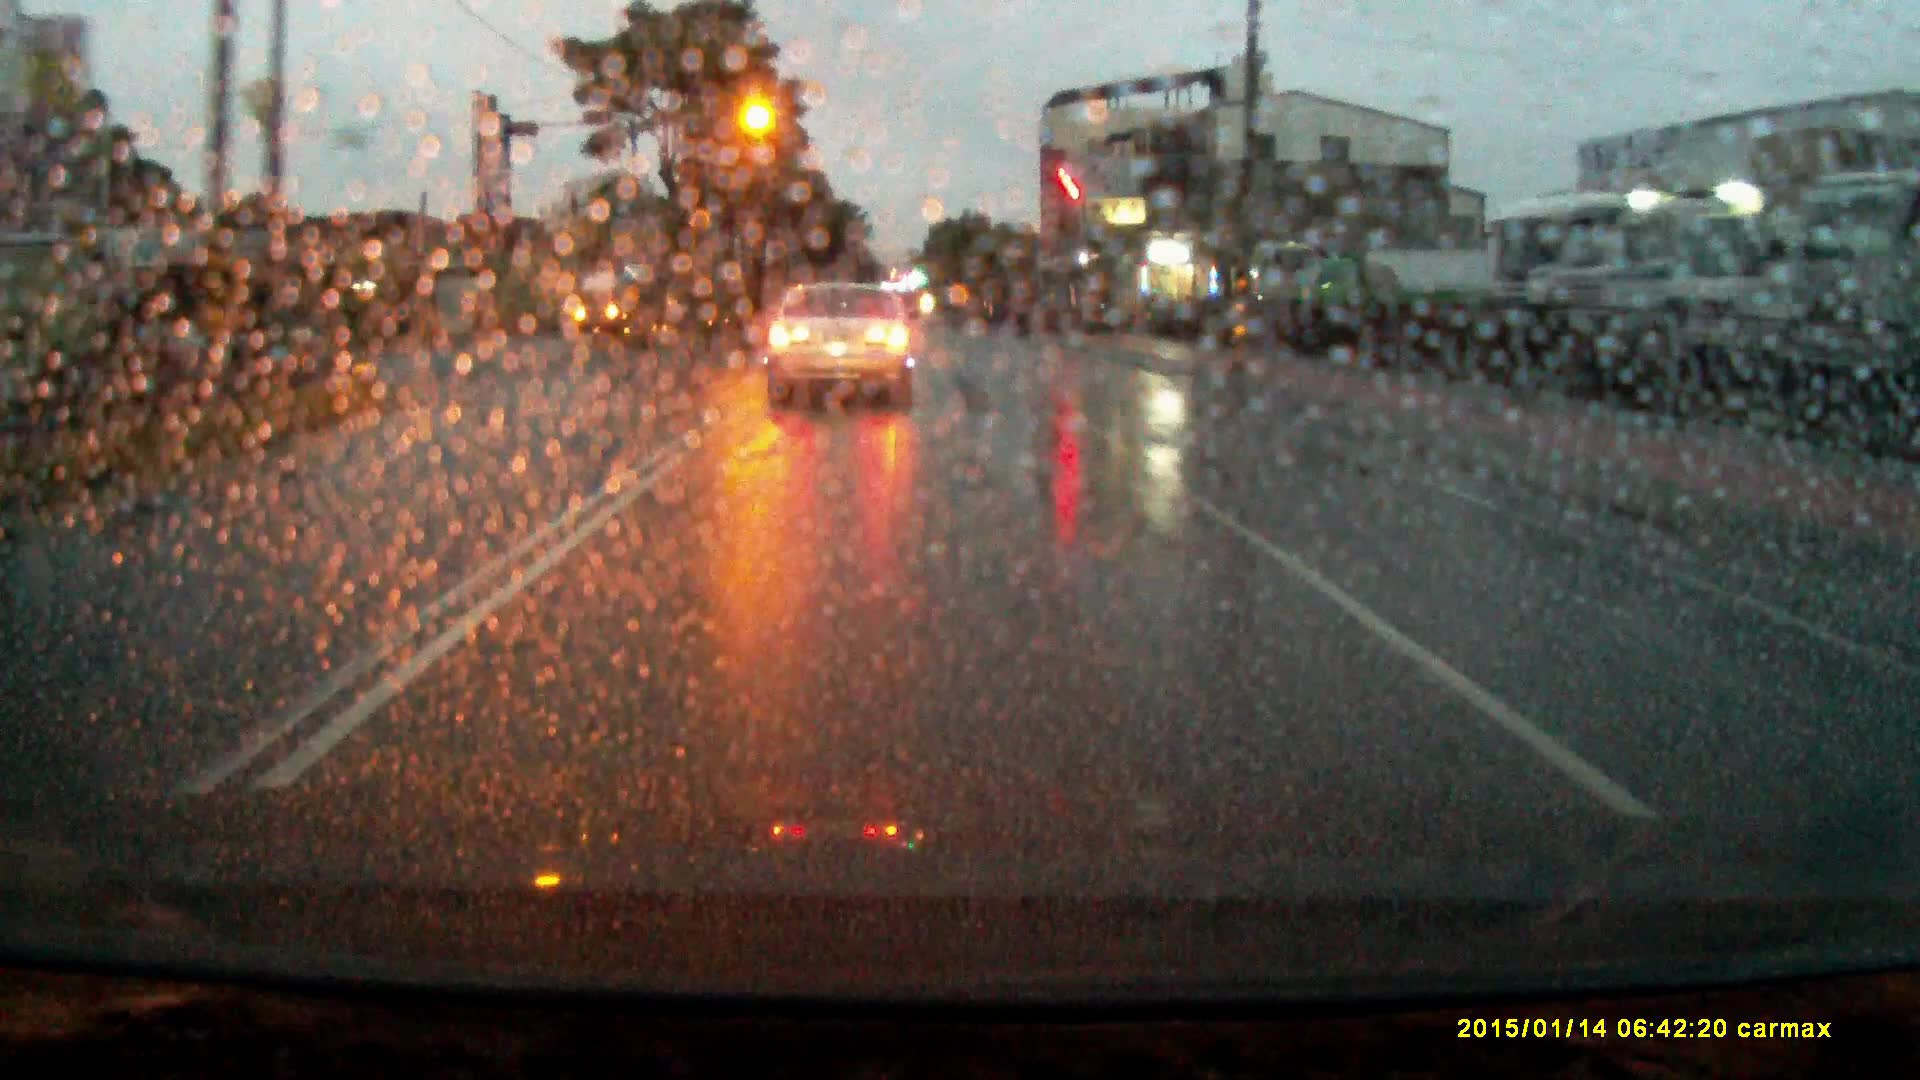vehicle: (1646, 215, 1815, 415), (1490, 195, 1627, 378), (766, 281, 922, 411), (1300, 251, 1489, 339), (1245, 241, 1327, 334), (575, 277, 633, 330)
